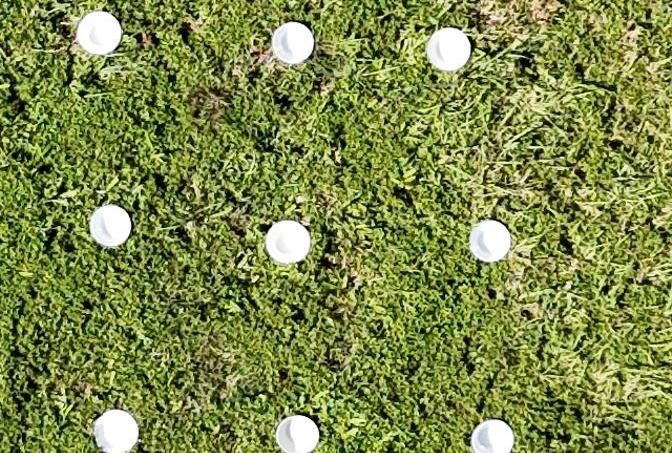bowl: (72, 9, 123, 57), (264, 218, 313, 267), (423, 27, 473, 73), (86, 203, 133, 249), (466, 218, 514, 263), (91, 409, 140, 453), (268, 21, 315, 66), (273, 414, 320, 453), (467, 418, 515, 453)
